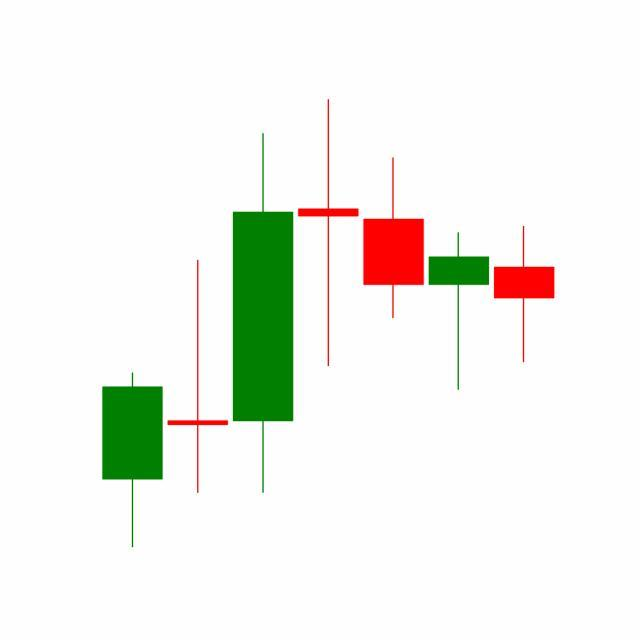Hikkake Pattern: (165, 99, 492, 498)
